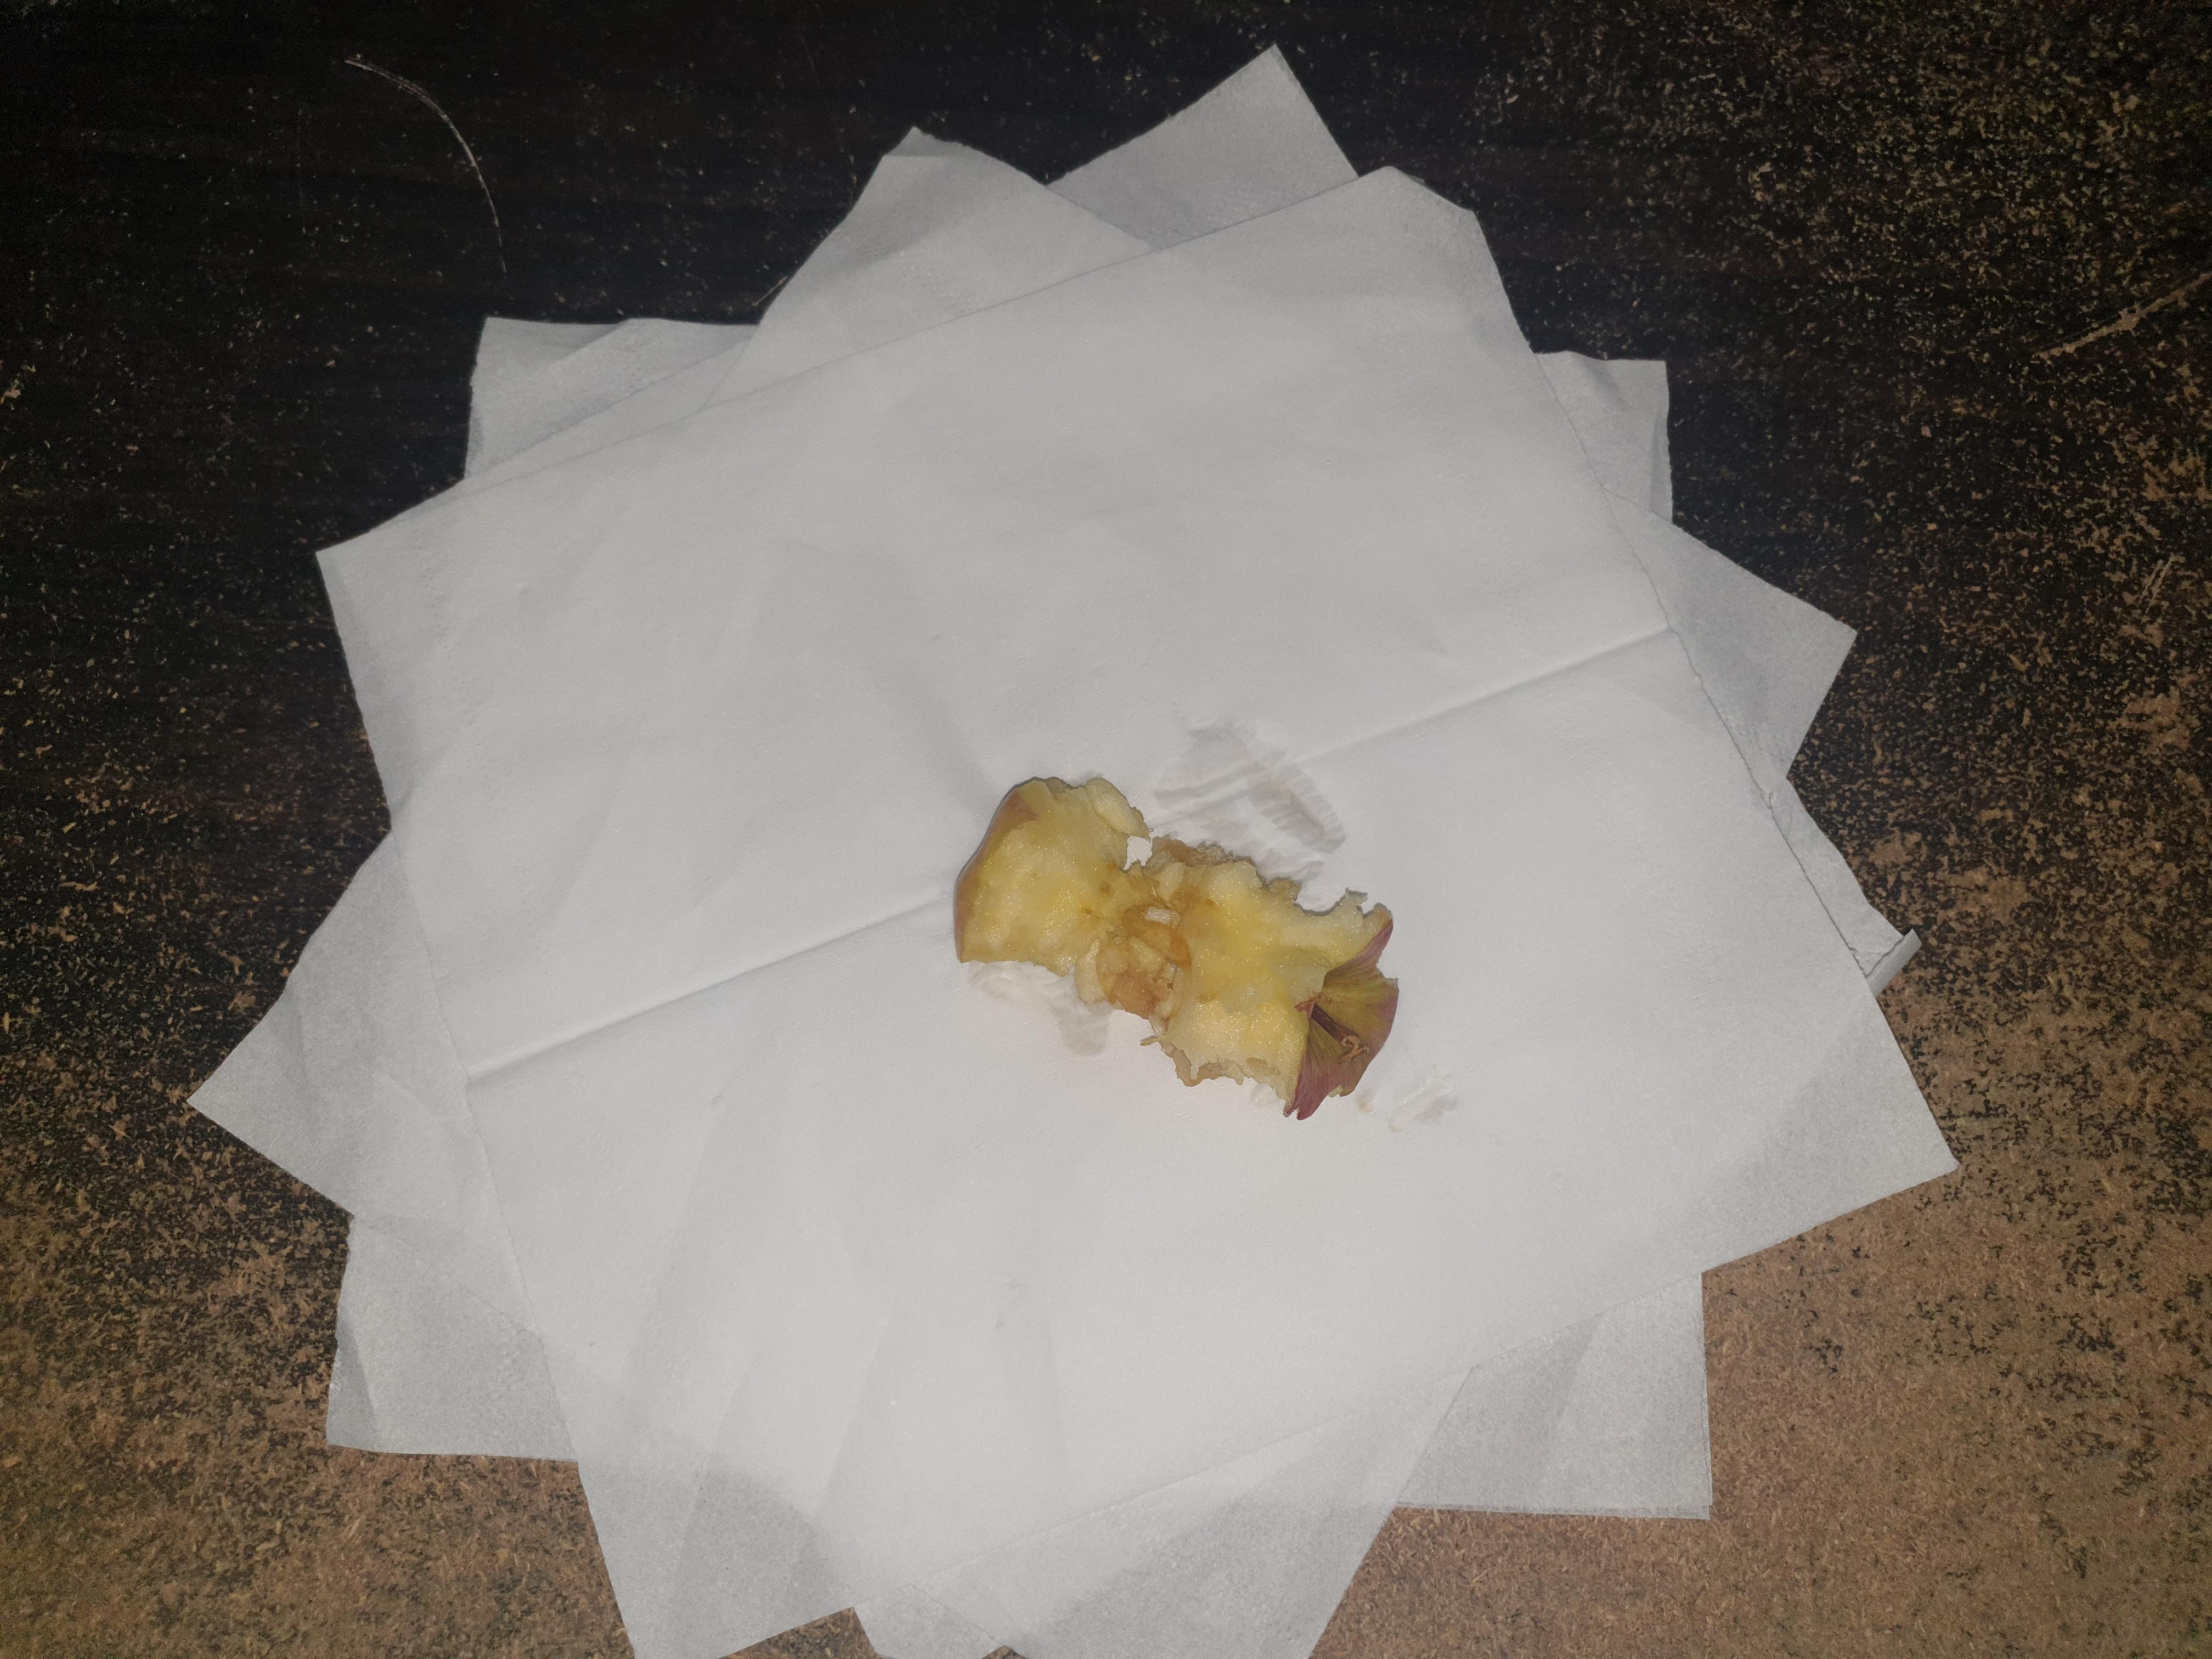Apple: (944, 755, 1428, 1155)
